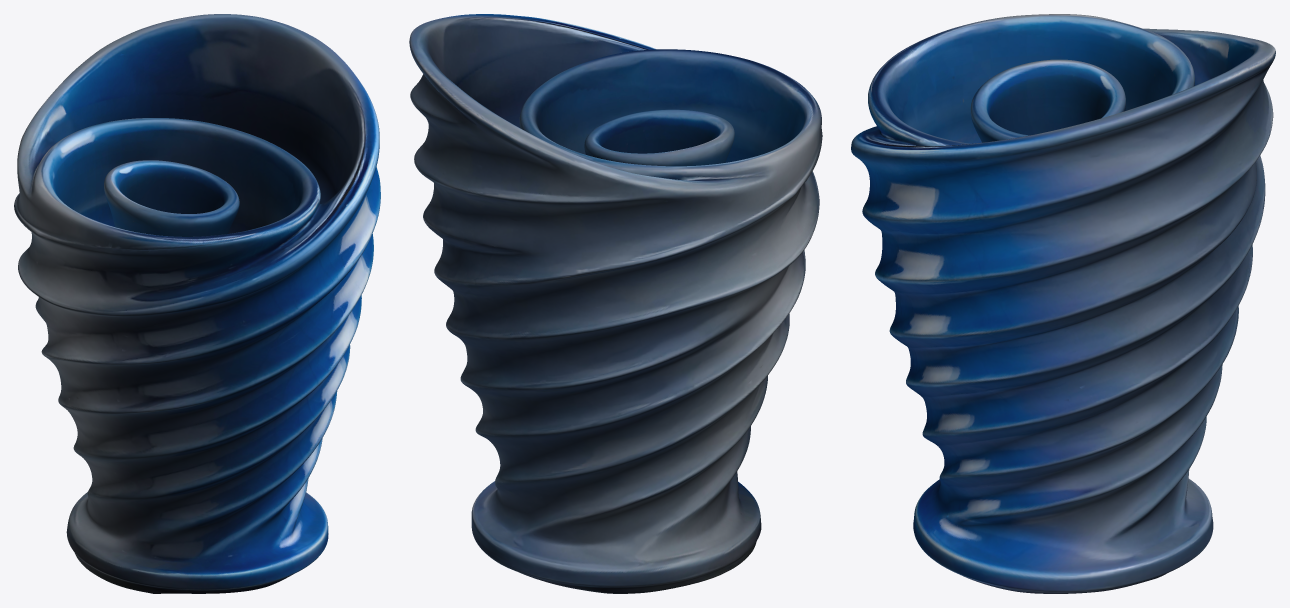
3 renders of one model, left to right at view 1: azimuth 30°, elevation 25°; view 2: azimuth 150°, elevation 25°; view 3: azimuth 270°, elevation 25°, orthographic. The views are drawn at different scales.
Visible parts, largest first — view 1: tripo_node_902dc461-3f9a-46c9-b990-a88a5449ca70; view 2: tripo_node_902dc461-3f9a-46c9-b990-a88a5449ca70; view 3: tripo_node_902dc461-3f9a-46c9-b990-a88a5449ca70.
Boxes of the visible parts, x1,y1,x2,y2 form: tripo_node_902dc461-3f9a-46c9-b990-a88a5449ca70: [14, 14, 380, 593]; tripo_node_902dc461-3f9a-46c9-b990-a88a5449ca70: [409, 14, 822, 593]; tripo_node_902dc461-3f9a-46c9-b990-a88a5449ca70: [851, 14, 1275, 593].
Bounding box in the file's own units: 0.7227 × 0.9802 × 0.7271.
Materials: 1 (1 with a texture image).
